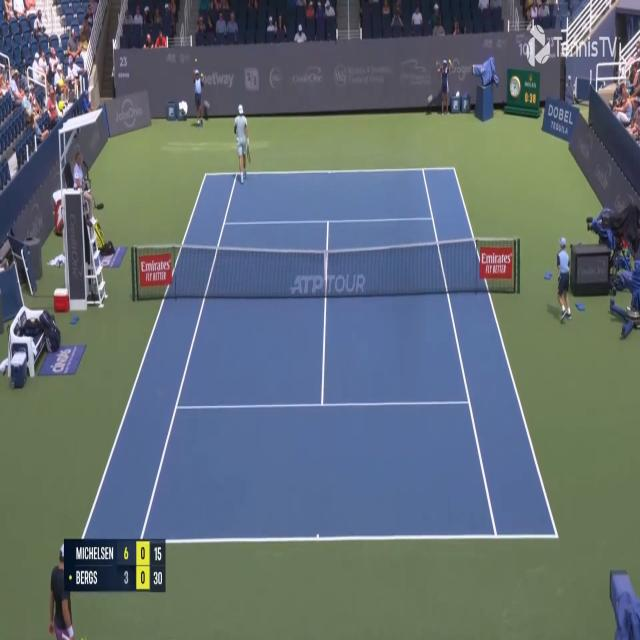tennis-player: (48, 530, 88, 640), (234, 102, 251, 186)
